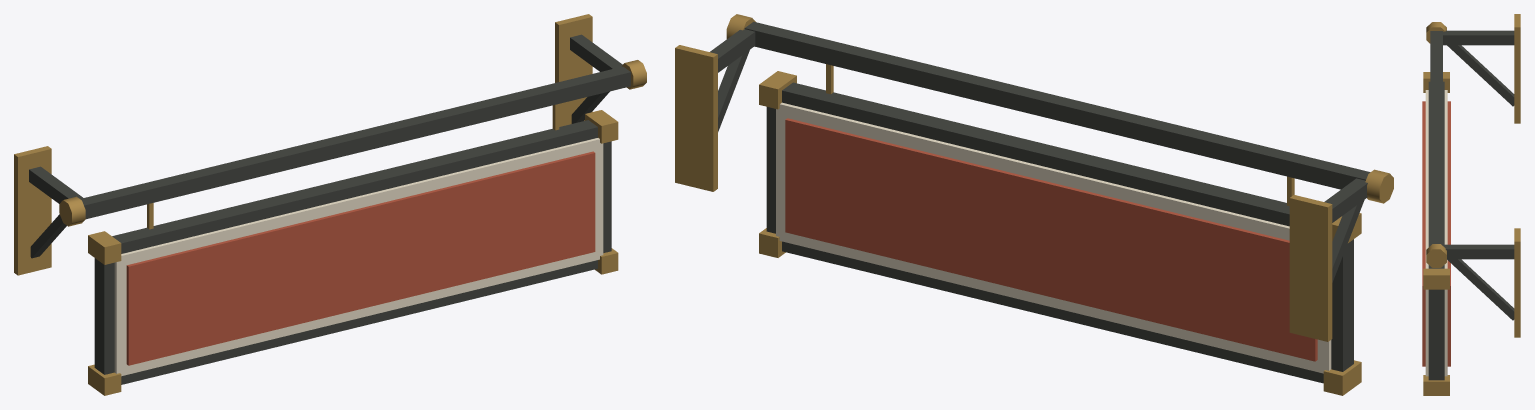
The model's file is sign_wall_3.glb.
3 renders of one model, left to right at view 1: azimuth 30°, elevation 25°; view 2: azimuth 150°, elevation 25°; view 3: azimuth 270°, elevation 25°, orthographic. The views are drawn at different scales.
Visible parts, largest first — view 1: sign_wall_3; view 2: sign_wall_3; view 3: sign_wall_3.
Boxes of the visible parts, bbox=[...] form: sign_wall_3: bbox=[14, 14, 646, 395]; sign_wall_3: bbox=[675, 14, 1393, 395]; sign_wall_3: bbox=[1422, 14, 1520, 395].
Size of the model in its own units: 3.4 by 1.16 by 0.62.
